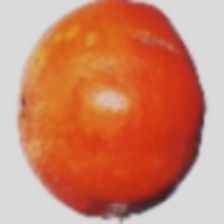tangerine: (19, 25, 210, 224)
